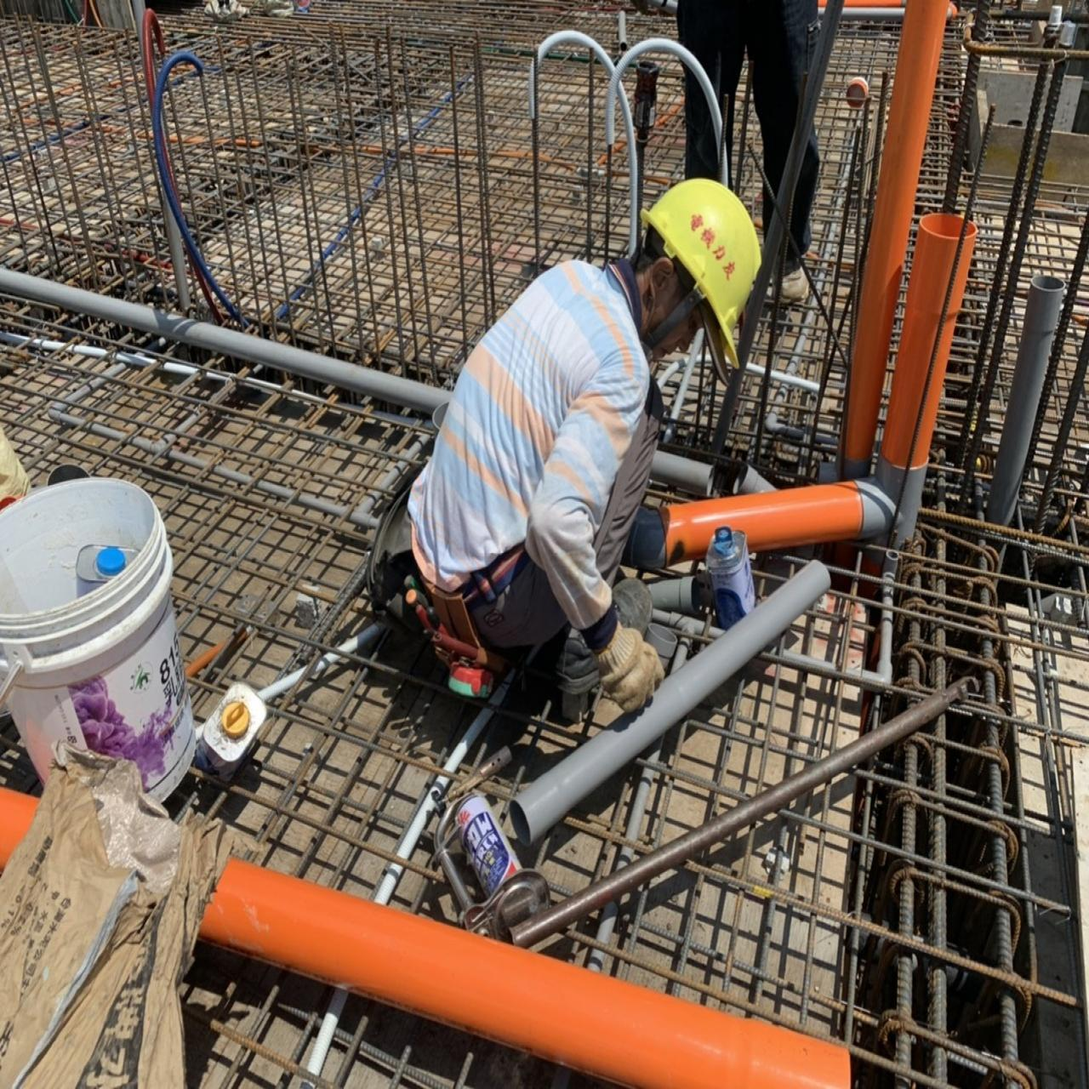NO_Safety_Vest: (403, 247, 649, 586)
Person: (375, 163, 768, 751)
